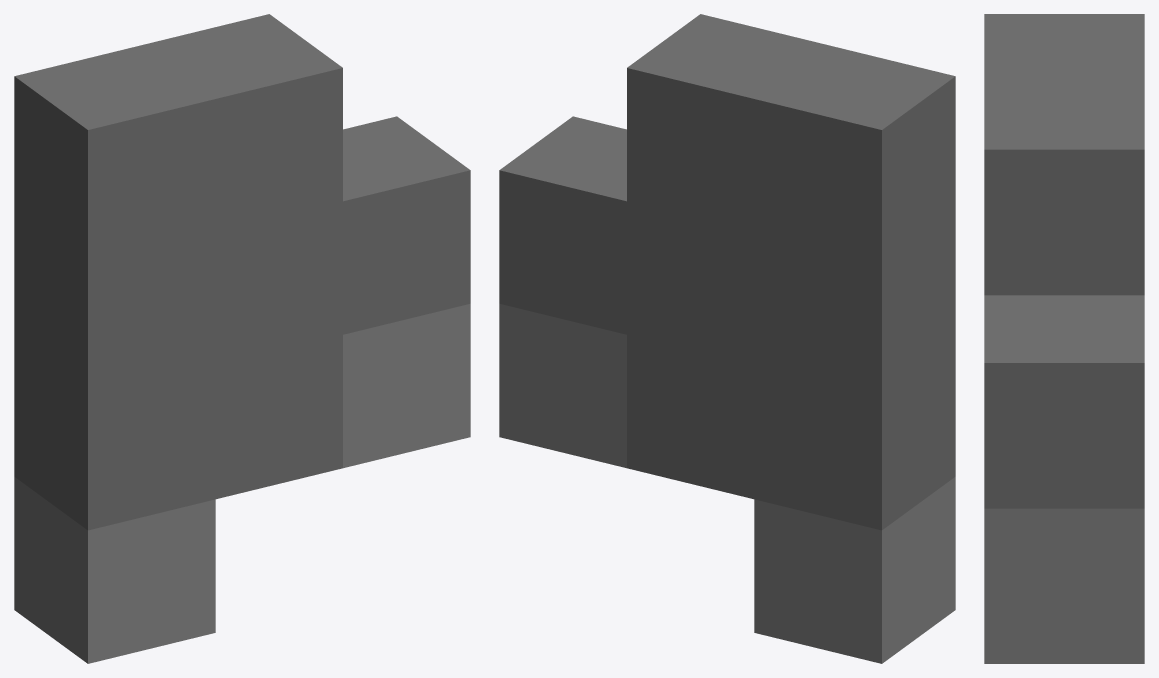
File: seal2-3.obj
The picture shows the model from 3 angles, left to right: view 1: azimuth 30°, elevation 25°; view 2: azimuth 150°, elevation 25°; view 3: azimuth 270°, elevation 25°; orthographic projection. The views are drawn at different scales.
Bounding box in the file's own units: 0.3 × 0.4 × 0.1.
1 material, 1 textured.
